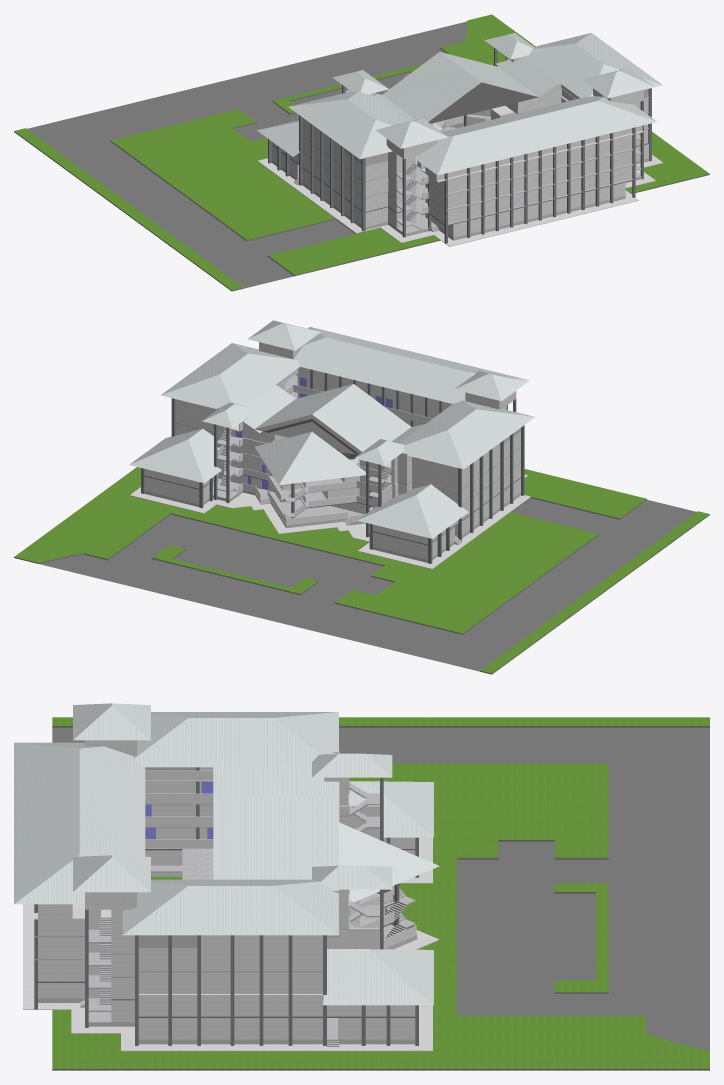
The model's file is Annex1.glb.
3 views of the same model, one above another, from view 1: azimuth 30°, elevation 25°; view 2: azimuth 150°, elevation 25°; view 3: azimuth 270°, elevation 25° (orthographic). The views are drawn at different scales.
Visible parts, largest first — view 1: root, Roof wing#1, Roof wing (×2), object 155, Roof tanki air (×2), object 4, Roof tanki air#1, object 12, object 65, object 191, object 107, object 86 (+19 smaller); view 2: root, Roof wing (×2), object 155, Roof wing#1, object 4, object 71, Roof tanki air (×2), object 70, object 12, Roof tanki air#1, object 50, object 191 (+14 smaller); view 3: root, Roof wing (×2), Roof wing#1, object 155, Roof tanki air (×2), object 4, object 70, Roof tanki air#1, object 192, object 71, object 5, object 12 (+26 smaller).
Part boxes in pixels (<box>): root: <box>14,14,709,291</box>; Roof wing#1: <box>414,96,656,175</box>; Roof wing (×2): <box>288,33,662,159</box>; object 155: <box>382,52,538,123</box>; Roof tanki air (×2): <box>375,68,654,158</box>; object 4: <box>257,154,662,246</box>; Roof tanki air#1: <box>332,33,534,94</box>; object 12: <box>272,158,648,240</box>; object 65: <box>425,188,538,223</box>; object 191: <box>497,56,561,100</box>; object 107: <box>429,158,538,193</box>; object 86: <box>302,138,388,196</box>; root: <box>14,451,709,674</box>; Roof wing (×2): <box>160,343,534,469</box>; object 155: <box>254,384,410,484</box>; Roof wing#1: <box>294,327,529,403</box>; object 4: <box>130,450,530,569</box>; object 71: <box>357,484,468,538</box>; Roof tanki air (×2): <box>248,320,526,409</box>; object 70: <box>129,428,221,483</box>; object 12: <box>144,451,520,562</box>; Roof tanki air#1: <box>202,402,404,465</box>; object 50: <box>218,460,469,544</box>; object 191: <box>243,384,295,433</box>; root: <box>52,717,709,1070</box>; Roof wing (×2): <box>122,712,338,935</box>; Roof wing#1: <box>14,742,145,904</box>; object 155: <box>213,796,439,902</box>; Roof tanki air (×2): <box>73,703,150,909</box>; object 4: <box>23,837,439,1051</box>; object 70: <box>323,949,433,1005</box>; Roof tanki air#1: <box>312,753,392,889</box>; object 192: <box>213,767,339,796</box>; object 71: <box>348,781,433,837</box>; object 5: <box>138,1018,288,1039</box>; object 12: <box>38,865,417,1044</box>.
Size of the model in its own units: 100 by 21.4 by 83.76.
Materials: 8 (5 with a texture image).
